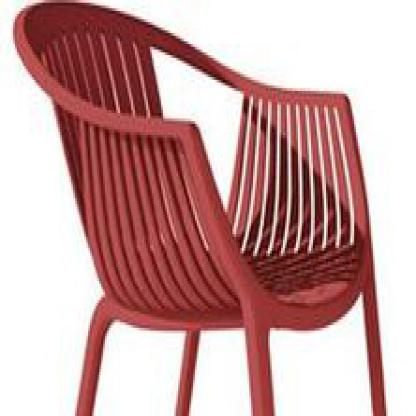chair: (11, 3, 394, 413)
